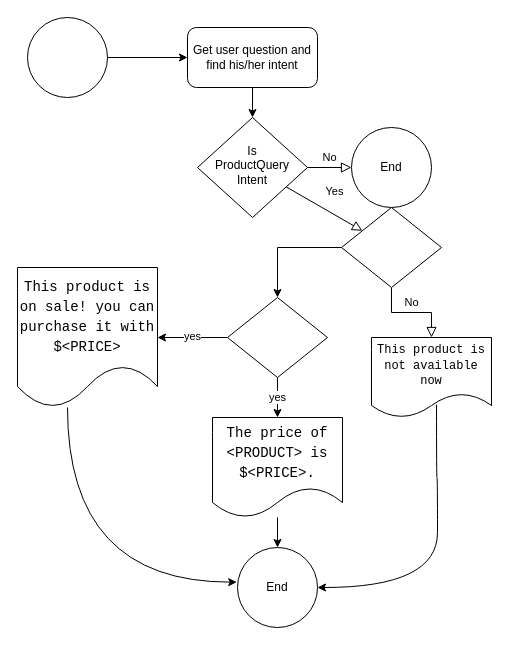
The diagram is 509 pixels wide and 645 high, and some of its shapes have lost their labels. The box of each missing label's shape, as (x1, y1, x2, y2) in pixels:
Is available: (340, 206, 442, 288)
Is on sale: (226, 296, 328, 378)
Start: (26, 16, 108, 98)
